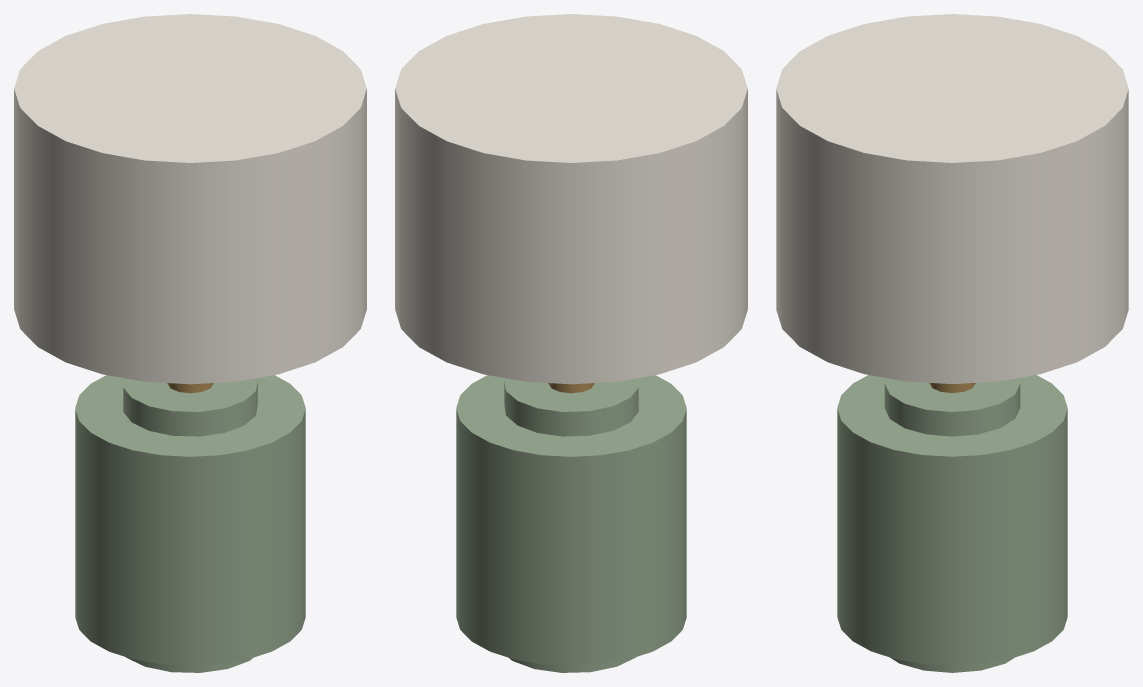
3 renders of one model, left to right at view 1: azimuth 30°, elevation 25°; view 2: azimuth 150°, elevation 25°; view 3: azimuth 270°, elevation 25°, orthographic.
Parts seen in each view (by area): view 1: shade, foot; view 2: shade, foot; view 3: shade, foot.
Part boxes in pixels (x1,y1,x2,y2): shade: [14, 14, 366, 384]; foot: [75, 375, 305, 672]; shade: [395, 14, 747, 384]; foot: [456, 375, 686, 672]; shade: [776, 14, 1128, 383]; foot: [837, 375, 1067, 672].
Bounding box in the file's own units: 0.26 × 0.45 × 0.26.
